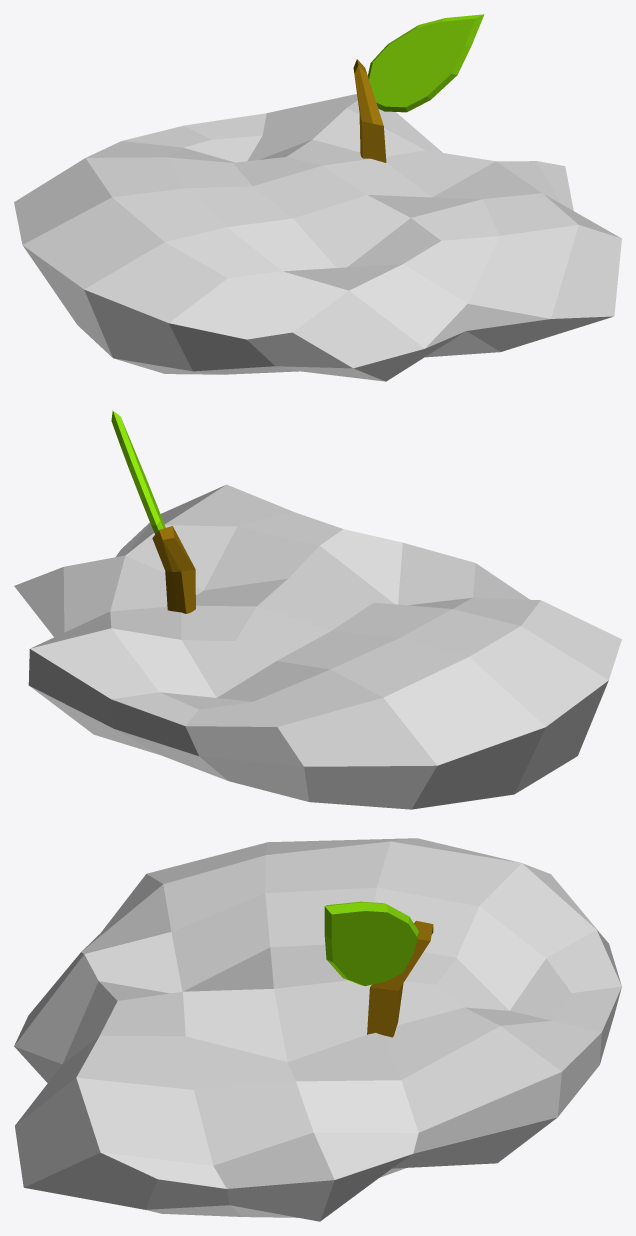
Rendered from CharcoSuperficie.fbx.
The picture shows the model from 3 angles, top to bottom: view 1: azimuth 30°, elevation 25°; view 2: azimuth 150°, elevation 25°; view 3: azimuth 270°, elevation 25°; orthographic projection. The views are drawn at different scales.
Parts seen in each view (by area): view 1: CharcoSuperficie; view 2: CharcoSuperficie; view 3: CharcoSuperficie.
Boxes of the visible parts, left/top/right/bottom form: CharcoSuperficie: left=14, top=14, right=621, bottom=381; CharcoSuperficie: left=14, top=410, right=621, bottom=809; CharcoSuperficie: left=14, top=838, right=621, bottom=1221.
Size of the model in its own units: 461 by 225 by 377.
